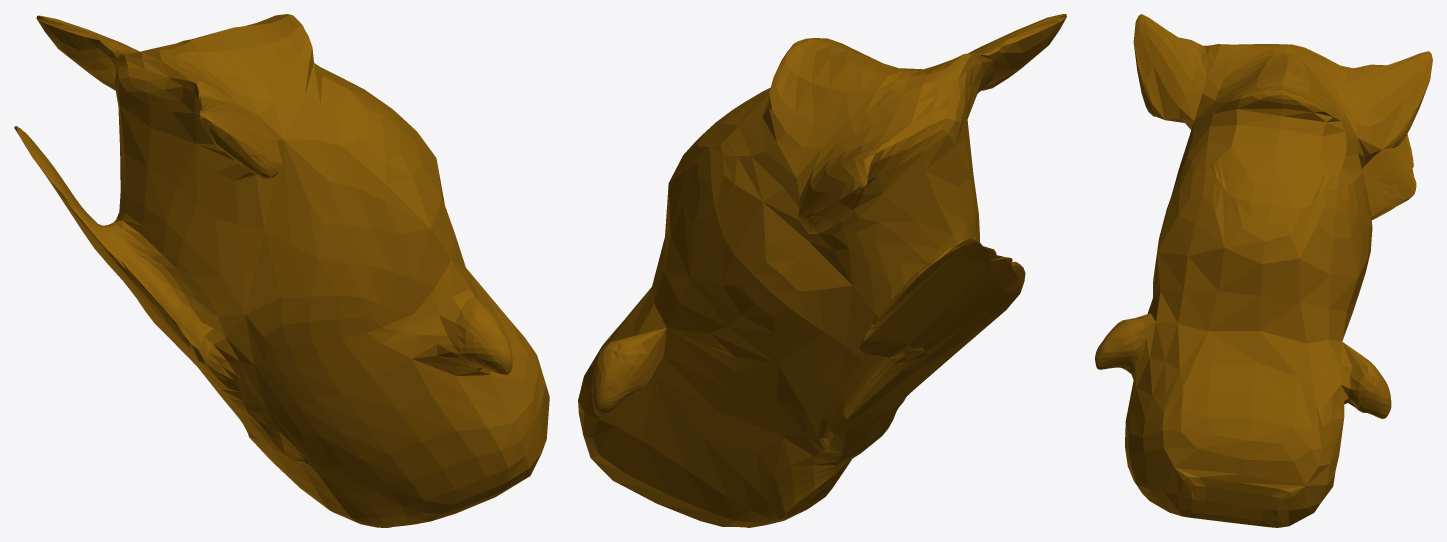
The model's file is PIKA.fbx.
3 views of the same model, side by side, from view 1: azimuth 30°, elevation 25°; view 2: azimuth 150°, elevation 25°; view 3: azimuth 270°, elevation 25° (orthographic). The views are drawn at different scales.
Visible parts, largest first — view 1: PIKA; view 2: PIKA; view 3: PIKA.
Boxes of the visible parts, x1=… form: PIKA: x1=14, y1=14, x2=549, y2=527; PIKA: x1=578, y1=14, x2=1066, y2=527; PIKA: x1=1095, y1=14, x2=1432, y2=527.
Size of the model in its own units: 35.15 by 39.69 by 30.51.
